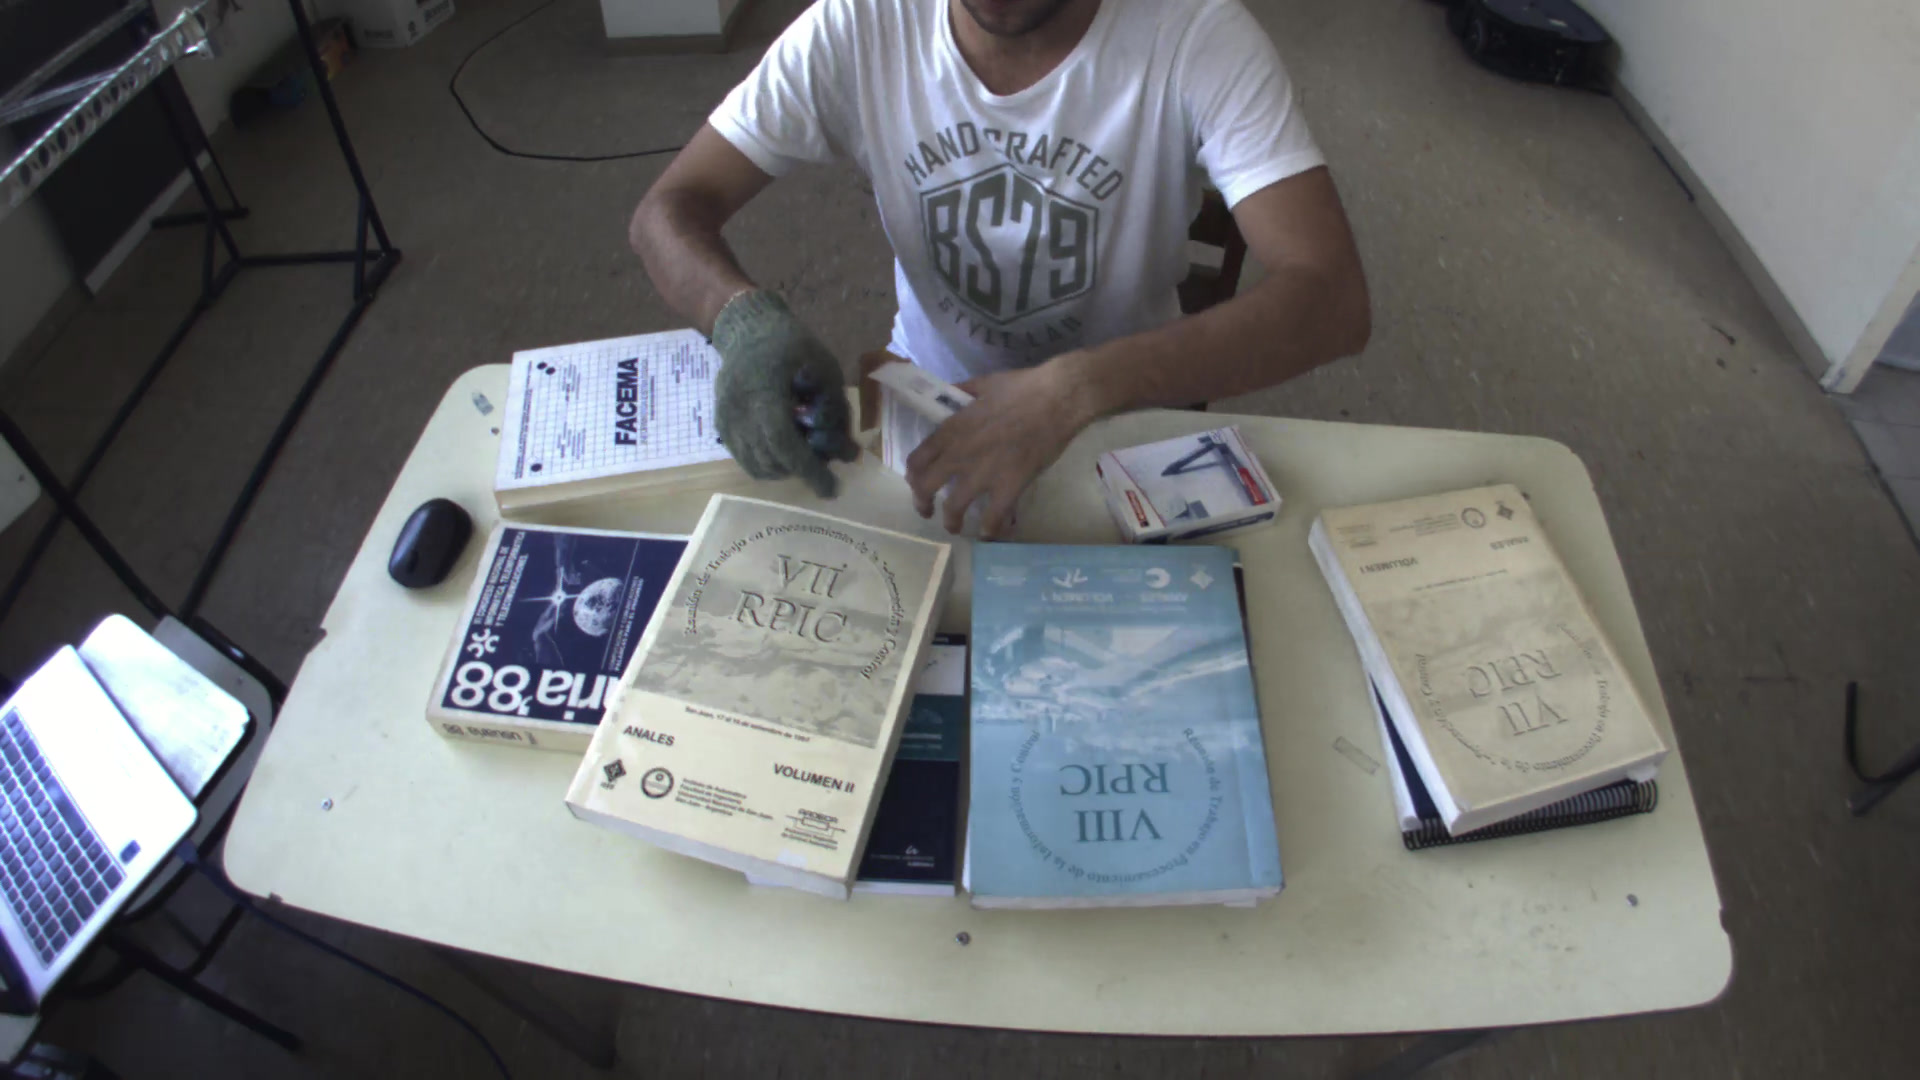hand: (887, 359, 1071, 546), (690, 285, 844, 483)
